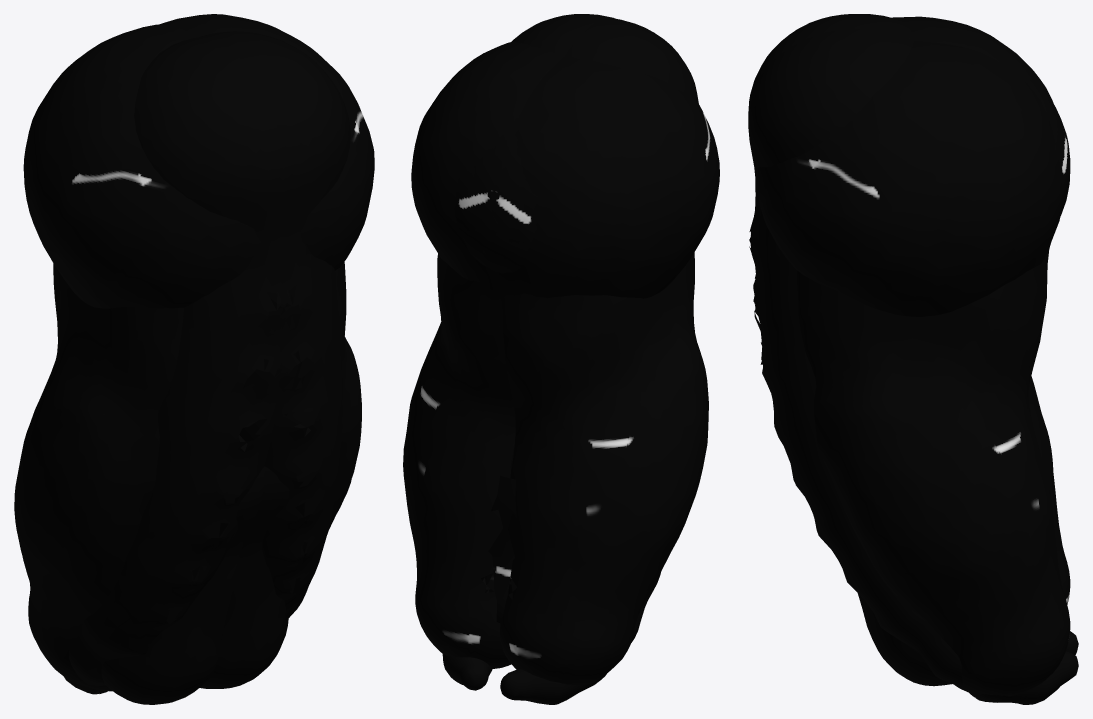
The model's file is CurseArms.obj.
3 renders of one model, left to right at view 1: azimuth 30°, elevation 25°; view 2: azimuth 150°, elevation 25°; view 3: azimuth 270°, elevation 25°, orthographic. The views are drawn at different scales.
Visible parts, largest first — view 1: TentacleArm_Skin_L, HuskArm_Skin_L, HuskArm_Skin, TentacleArm_Skin, MuscularArm_Skin_L, MuscularArm_Skin; view 2: HuskArm_Skin_L, HuskArm_Skin, MuscularArm_Skin, TentacleArm_Skin, MuscularArm_Skin_L, TentacleArm_Skin_L; view 3: HuskArm_Skin, HuskArm_Skin_L, TentacleArm_Skin, TentacleArm_Skin_L, MuscularArm_Skin, MuscularArm_Skin_L.
Boxes of the visible parts, x1,y1,x2,y2 form: TentacleArm_Skin_L: [64, 31, 350, 694]; HuskArm_Skin_L: [14, 14, 374, 691]; HuskArm_Skin: [23, 24, 361, 557]; TentacleArm_Skin: [134, 36, 342, 620]; MuscularArm_Skin_L: [101, 435, 264, 704]; MuscularArm_Skin: [200, 424, 316, 688]; HuskArm_Skin_L: [411, 41, 708, 684]; HuskArm_Skin: [403, 57, 719, 668]; MuscularArm_Skin: [454, 117, 538, 623]; TentacleArm_Skin: [442, 18, 698, 690]; MuscularArm_Skin_L: [455, 117, 536, 273]; TentacleArm_Skin_L: [500, 14, 660, 704]; HuskArm_Skin: [797, 16, 1070, 696]; HuskArm_Skin_L: [756, 40, 1070, 604]; TentacleArm_Skin: [748, 14, 1078, 704]; TentacleArm_Skin_L: [748, 28, 1078, 655]; MuscularArm_Skin: [857, 70, 1070, 686]; MuscularArm_Skin_L: [1011, 70, 1070, 215].
Size of the model in its own units: 1.04 by 2.27 by 1.04.
Materials: 12 (12 with a texture image).
